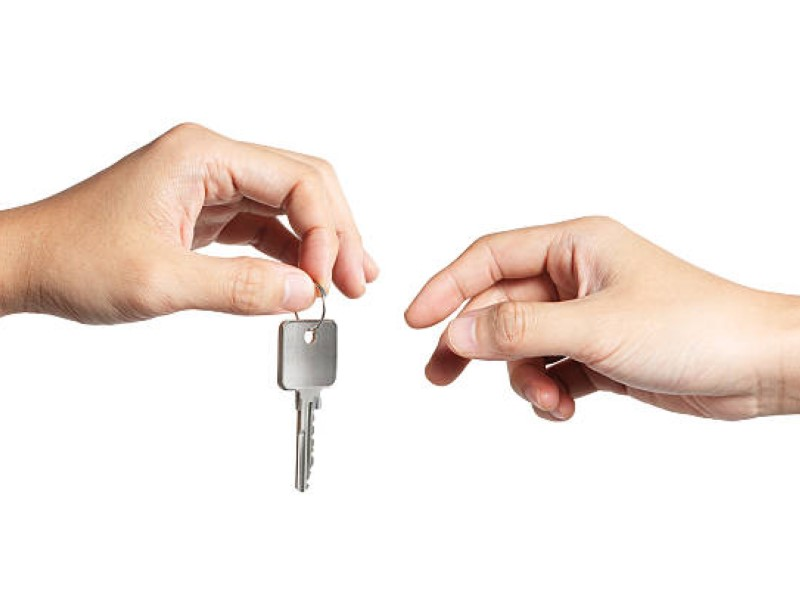key: (275, 320, 343, 495)
